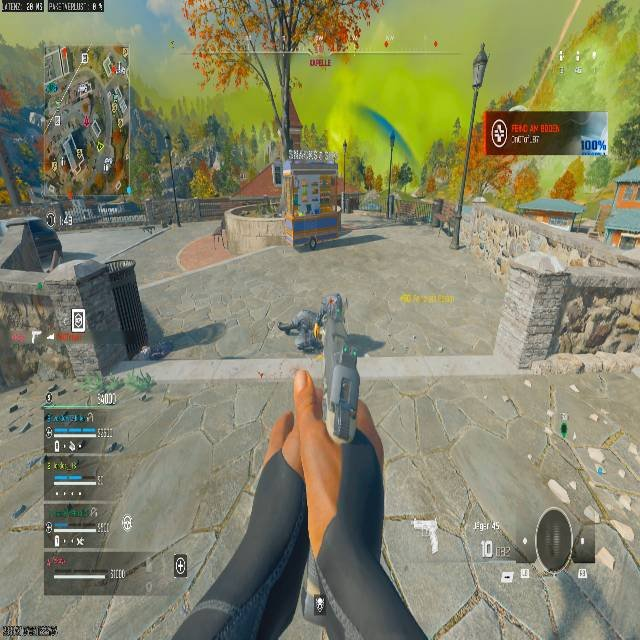player: (308, 233, 318, 250)
